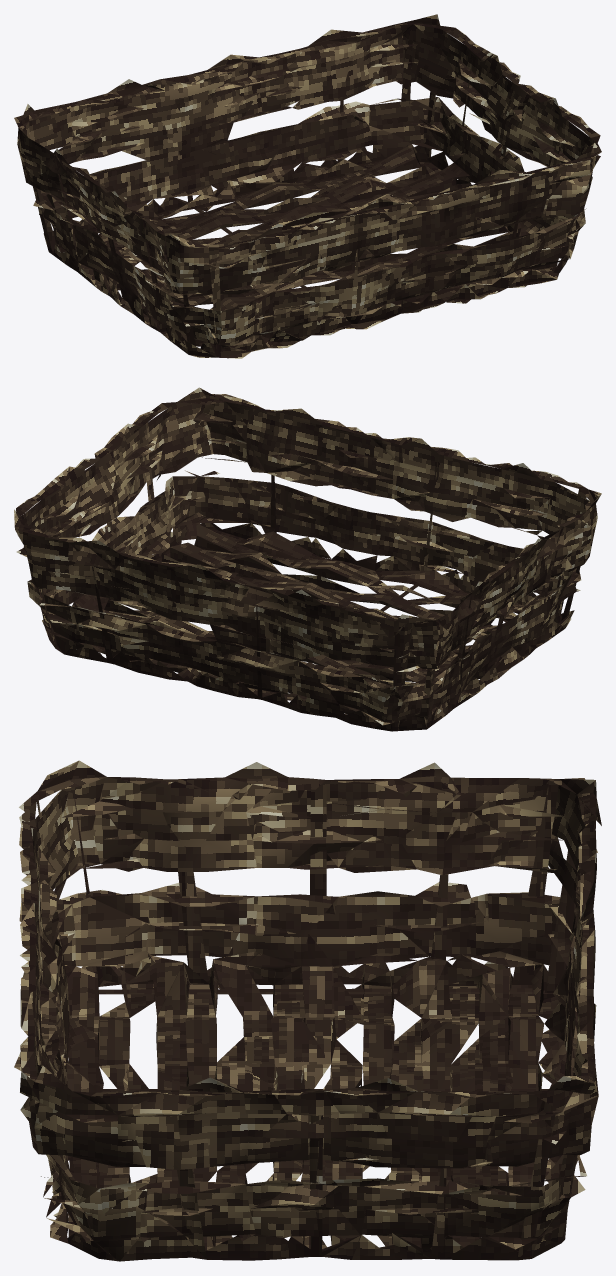
The model's file is wicker_basket_01.glb.
3 views of the same model, one above another, from view 1: azimuth 30°, elevation 25°; view 2: azimuth 150°, elevation 25°; view 3: azimuth 270°, elevation 25° (orthographic). The views are drawn at different scales.
Parts seen in each view (by area): view 1: body; view 2: body; view 3: body.
Part boxes in pixels (x1,y1,x2,y2): body: [14, 14, 601, 358]; body: [14, 387, 601, 731]; body: [14, 760, 601, 1261].
Bounding box in the file's own units: 0.3914 × 0.1174 × 0.302.
1 material, 1 textured.
